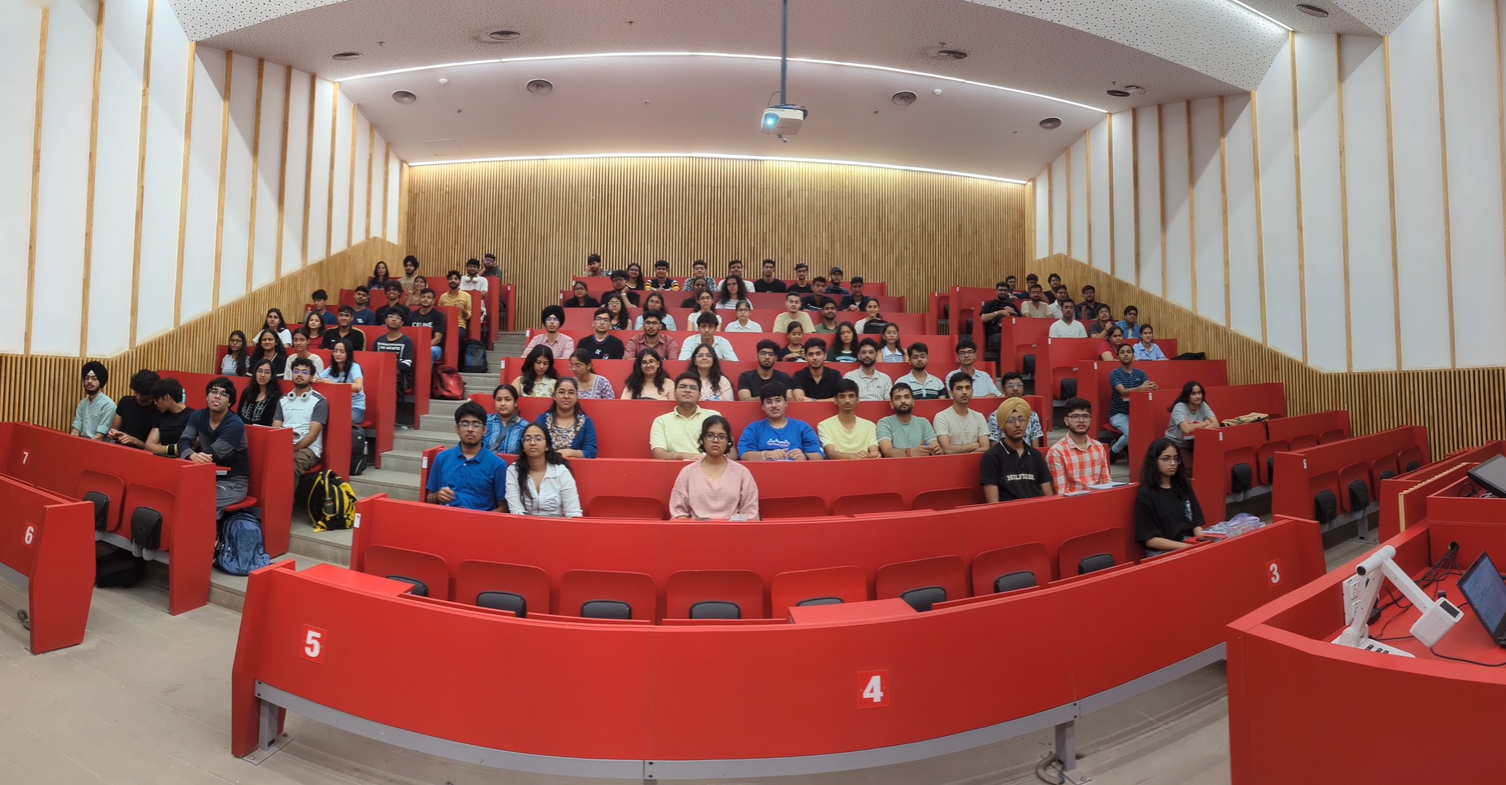student_face: (1154, 440, 1173, 444), (81, 363, 99, 367), (294, 360, 312, 364), (211, 383, 229, 387), (703, 421, 721, 425), (772, 391, 790, 395), (1004, 400, 1022, 404), (159, 376, 176, 380), (495, 387, 512, 391), (531, 426, 548, 430), (841, 386, 858, 390), (901, 387, 918, 391), (1073, 402, 1090, 406), (230, 325, 246, 329), (254, 353, 270, 357), (295, 325, 311, 329), (530, 345, 546, 349), (577, 353, 593, 357), (640, 312, 656, 316), (697, 345, 713, 349), (459, 415, 475, 419), (557, 379, 573, 383), (953, 376, 969, 380), (1182, 379, 1198, 383), (264, 302, 279, 306), (131, 371, 146, 375), (264, 325, 279, 329), (415, 285, 429, 289), (644, 285, 658, 289), (678, 379, 696, 382), (757, 345, 774, 348), (312, 292, 328, 295), (542, 307, 558, 310), (336, 341, 352, 344), (637, 351, 653, 354), (818, 343, 834, 346), (858, 341, 874, 344), (884, 320, 900, 323), (908, 341, 924, 344), (914, 345, 930, 348), (959, 341, 975, 344), (1004, 372, 1020, 375), (1116, 341, 1132, 344), (592, 307, 607, 310), (384, 310, 399, 313), (701, 310, 716, 313), (839, 318, 854, 321), (1110, 318, 1125, 321), (1134, 318, 1149, 321), (630, 251, 641, 255), (573, 278, 587, 281), (762, 254, 776, 257), (867, 300, 881, 303), (1090, 300, 1104, 303), (1123, 300, 1137, 303), (694, 247, 703, 251), (657, 249, 668, 252), (793, 258, 804, 261), (356, 285, 366, 288), (584, 253, 599, 255), (816, 275, 826, 278), (825, 300, 835, 303), (1006, 266, 1016, 269), (1060, 303, 1075, 305), (381, 256, 390, 259), (733, 254, 742, 257), (790, 291, 799, 294), (792, 324, 801, 327), (702, 292, 715, 294), (307, 315, 320, 317), (855, 274, 863, 277), (388, 283, 399, 285), (1027, 266, 1038, 268), (486, 249, 493, 252), (834, 260, 841, 263), (694, 280, 704, 282), (407, 253, 416, 255), (417, 275, 426, 277), (451, 274, 460, 276), (610, 295, 619, 297), (728, 275, 737, 277), (738, 303, 747, 305), (998, 284, 1007, 286), (1032, 285, 1041, 287), (342, 308, 350, 310), (615, 271, 623, 273), (1057, 283, 1065, 285), (469, 260, 476, 262), (1051, 271, 1058, 273), (1086, 285, 1093, 287)
